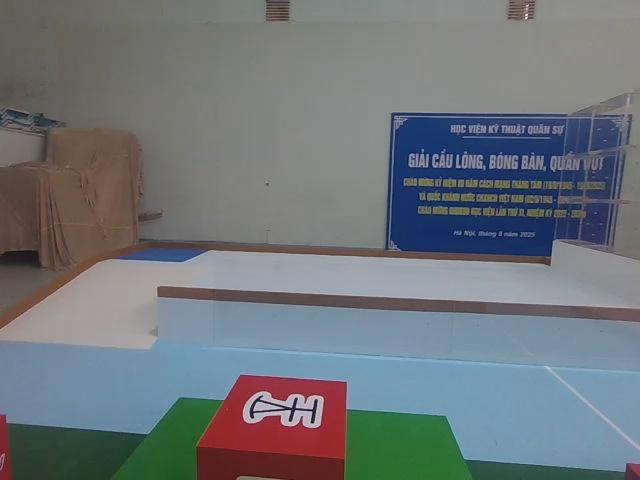R2 Real: (192, 367, 353, 480)
